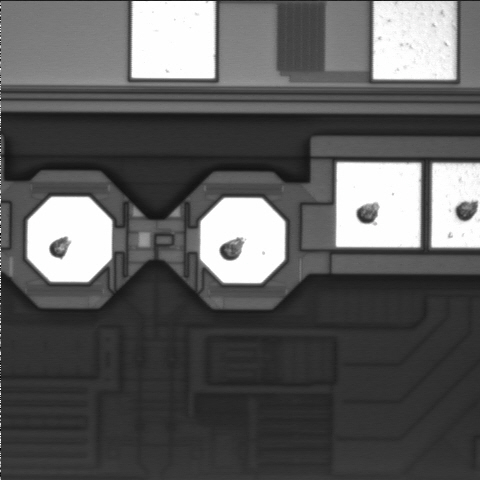pad: (336, 162, 421, 247), (27, 197, 112, 282), (200, 198, 285, 283)
